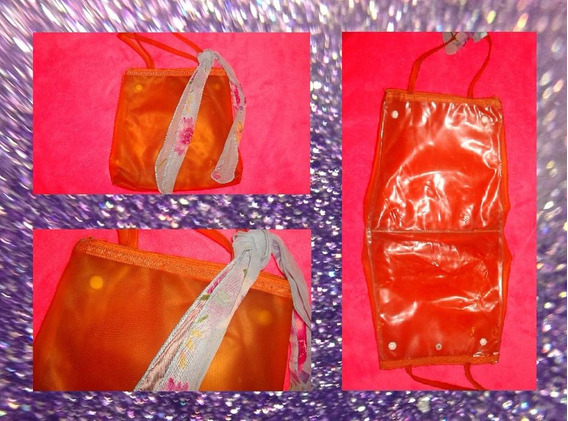cartera: (35, 229, 296, 392), (363, 32, 512, 232), (359, 234, 514, 390), (108, 31, 244, 194)
